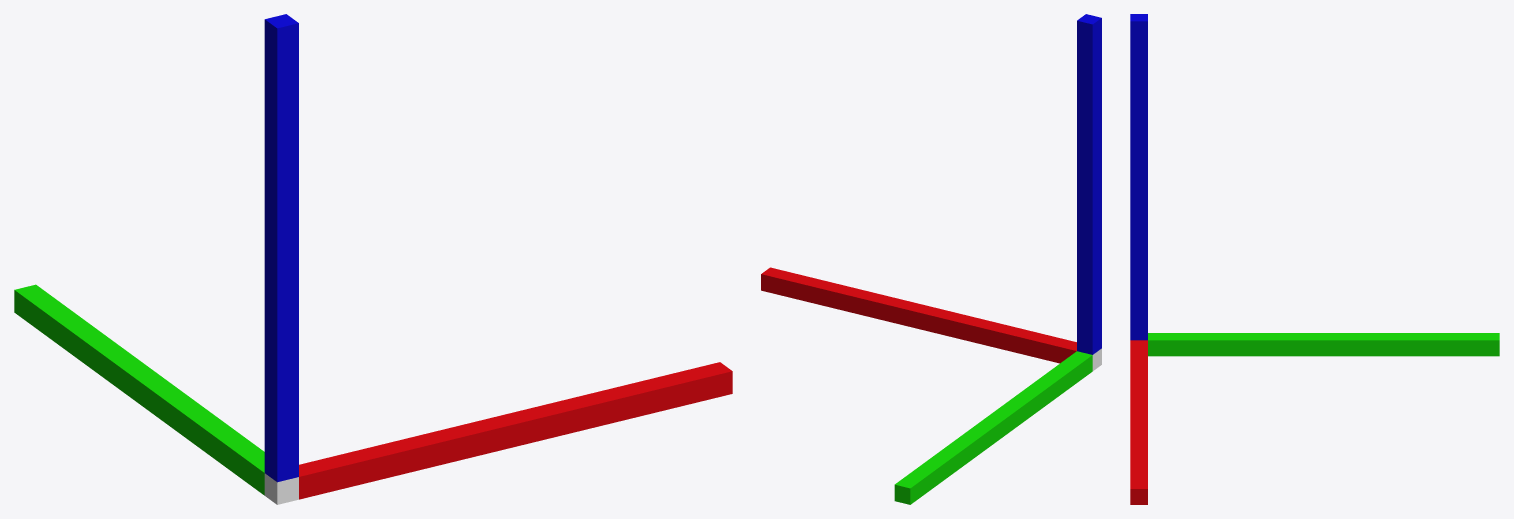
The model's file is transform.glb.
3 renders of one model, left to right at view 1: azimuth 30°, elevation 25°; view 2: azimuth 150°, elevation 25°; view 3: azimuth 270°, elevation 25°, orthographic. The views are drawn at different scales.
Visible parts, largest first — view 1: YAxe, ZAxes, XAxe, Middle; view 2: YAxe, ZAxes, XAxe; view 3: XAxe, YAxe, ZAxes.
Boxes of the visible parts, <box> form: YAxe: <box>264,14,298,482</box>; ZAxes: <box>299,362,732,499</box>; XAxe: <box>14,284,264,495</box>; Middle: <box>264,473,298,504</box>; YAxe: <box>1077,14,1101,354</box>; ZAxes: <box>761,267,1076,363</box>; XAxe: <box>894,351,1092,504</box>; XAxe: <box>1148,333,1499,356</box>; YAxe: <box>1130,14,1147,340</box>; ZAxes: <box>1130,340,1147,504</box>.
Bounding box in the file's own units: 0.21 × 0.21 × 0.21.
